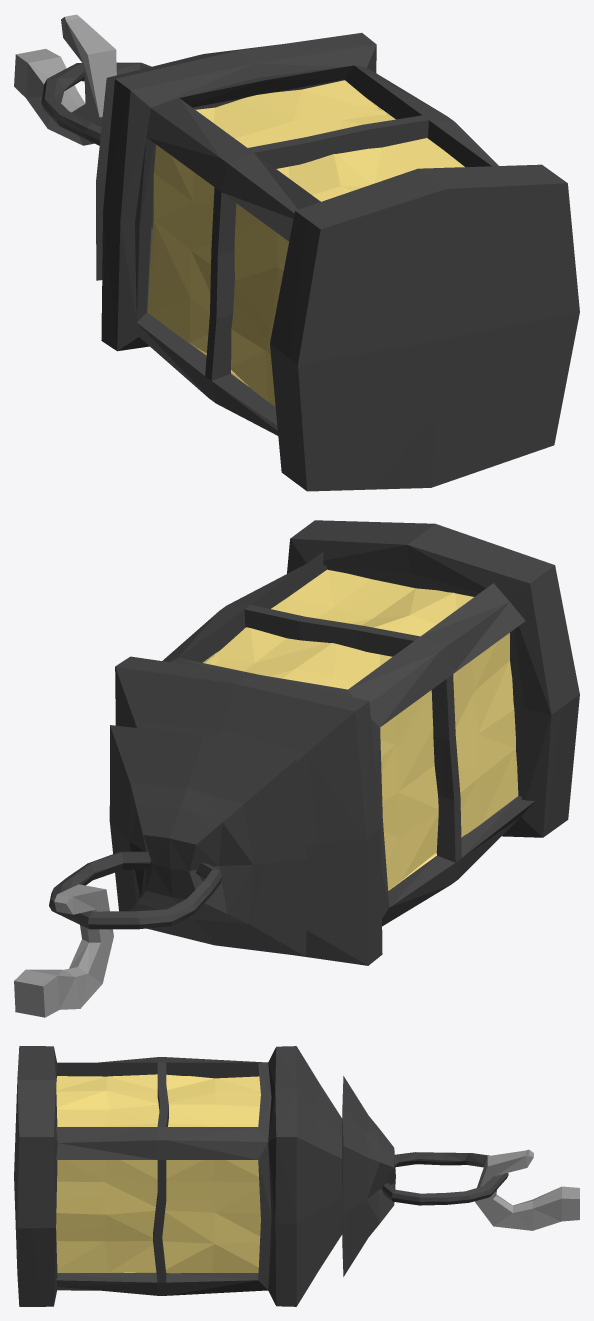
The model's file is LanternLampWithHook.fbx.
3 views of the same model, one above another, from view 1: azimuth 30°, elevation 25°; view 2: azimuth 150°, elevation 25°; view 3: azimuth 270°, elevation 25° (orthographic). The views are drawn at different scales.
Visible parts, largest first — view 1: LanternLampWithHook; view 2: LanternLampWithHook; view 3: LanternLampWithHook.
Boxes of the visible parts, x1=… form: LanternLampWithHook: x1=14, y1=14, x2=579, y2=491; LanternLampWithHook: x1=14, y1=520, x2=579, y2=1017; LanternLampWithHook: x1=14, y1=1046, x2=579, y2=1306.
Size of the model in its own units: 71.48 by 184 by 71.48.
